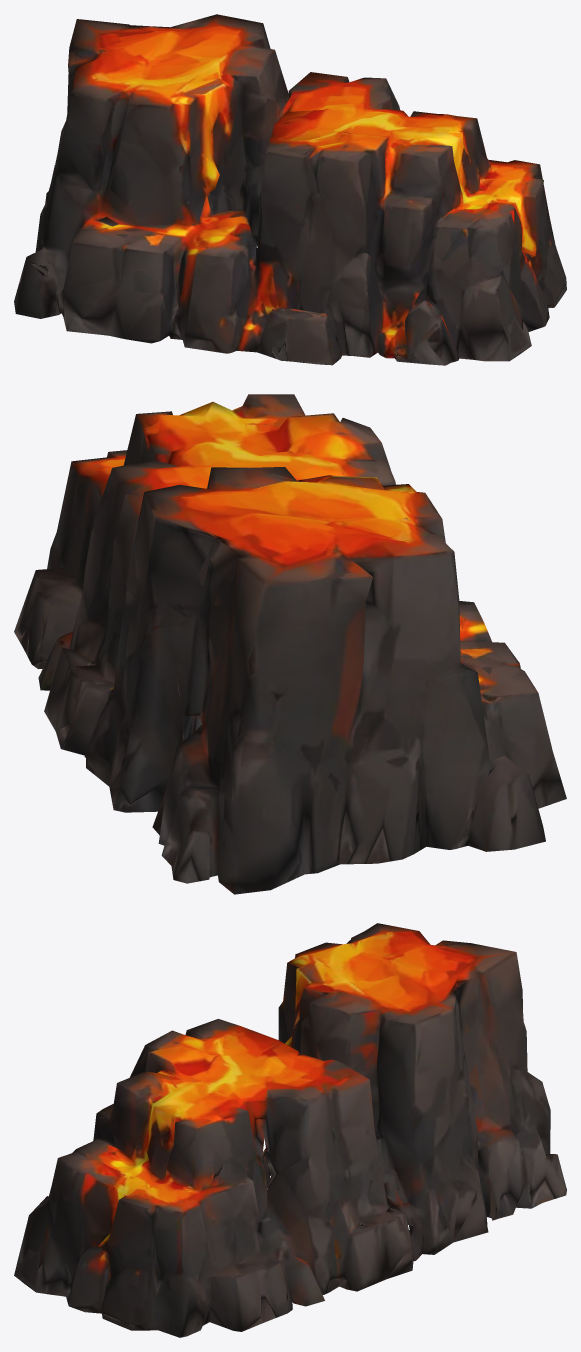
Rendered from cliff_mesa_lava.glb.
3 renders of one model, top to bottom at view 1: azimuth 30°, elevation 25°; view 2: azimuth 150°, elevation 25°; view 3: azimuth 270°, elevation 25°, orthographic. The views are drawn at different scales.
Visible parts, largest first — view 1: BakeLow; view 2: BakeLow; view 3: BakeLow.
Boxes of the visible parts, box(x1,y1,x2,y2) form: BakeLow: box(14, 14, 566, 365); BakeLow: box(14, 394, 566, 894); BakeLow: box(14, 923, 566, 1337).
Size of the model in its own units: 0.922 by 0.4294 by 0.9227.
Materials: 1 (1 with a texture image).
